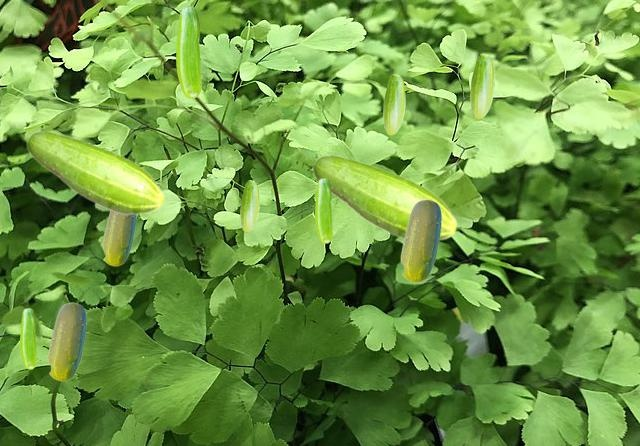cucumber: (312, 154, 457, 241), (26, 130, 164, 215), (400, 199, 440, 281), (47, 302, 85, 380), (176, 6, 200, 97), (102, 211, 135, 265), (470, 54, 493, 118), (383, 74, 404, 134), (315, 178, 331, 242), (240, 180, 258, 231), (20, 308, 35, 368)
